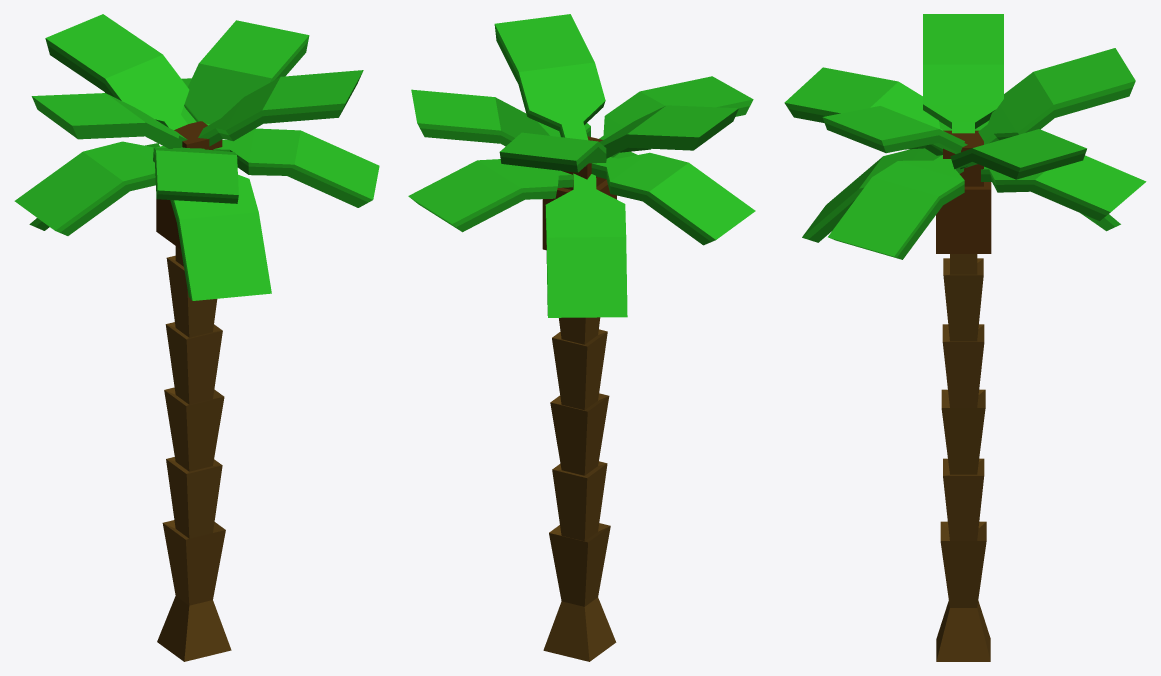
File: palmtree3v2.fbx
The picture shows the model from 3 angles, left to right: view 1: azimuth 30°, elevation 25°; view 2: azimuth 150°, elevation 25°; view 3: azimuth 270°, elevation 25°; orthographic projection. The views are drawn at different scales.
Parts seen in each view (by area): view 1: palmtree3v2; view 2: palmtree3v2; view 3: palmtree3v2.
Boxes of the visible parts, x1=… form: palmtree3v2: x1=14, y1=14, x2=379, y2=661; palmtree3v2: x1=408, y1=14, x2=755, y2=661; palmtree3v2: x1=784, y1=14, x2=1146, y2=661.
Size of the model in its own units: 912 by 1615 by 927.
1 material, 1 textured.
